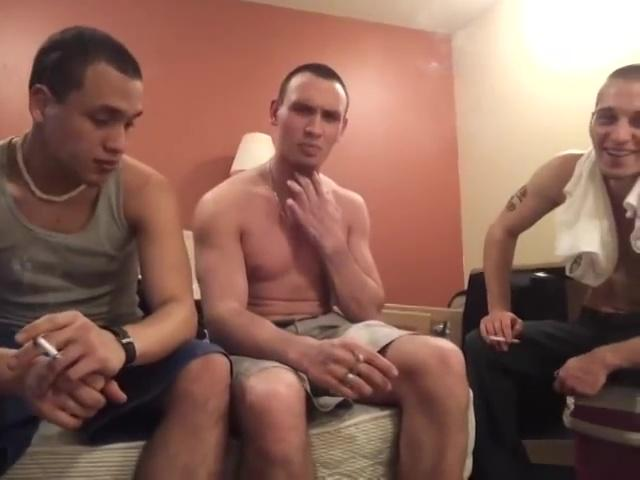cigarette: (34, 336, 61, 361), (485, 333, 524, 346)
